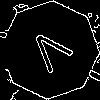V: (25, 25, 81, 82)
